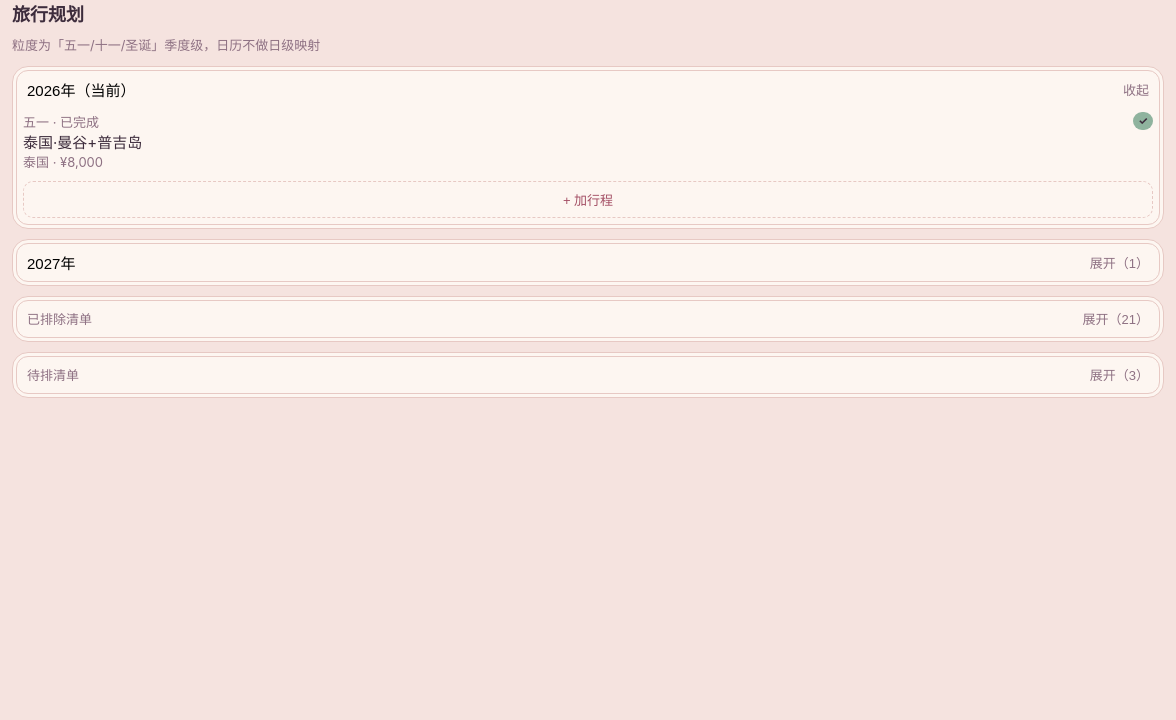
Scenario: TravelPlanView › 未来年份默认折叠，点击后展开
The image size is (1176, 720).
Check: the text "泰国·曼谷+普吉岛" is shown, box [23,132,142,152]
Check: the text "川西·色达" is not shown
Click the button "2027年 展开（1）": (44, 263) [13,240,1163,284]
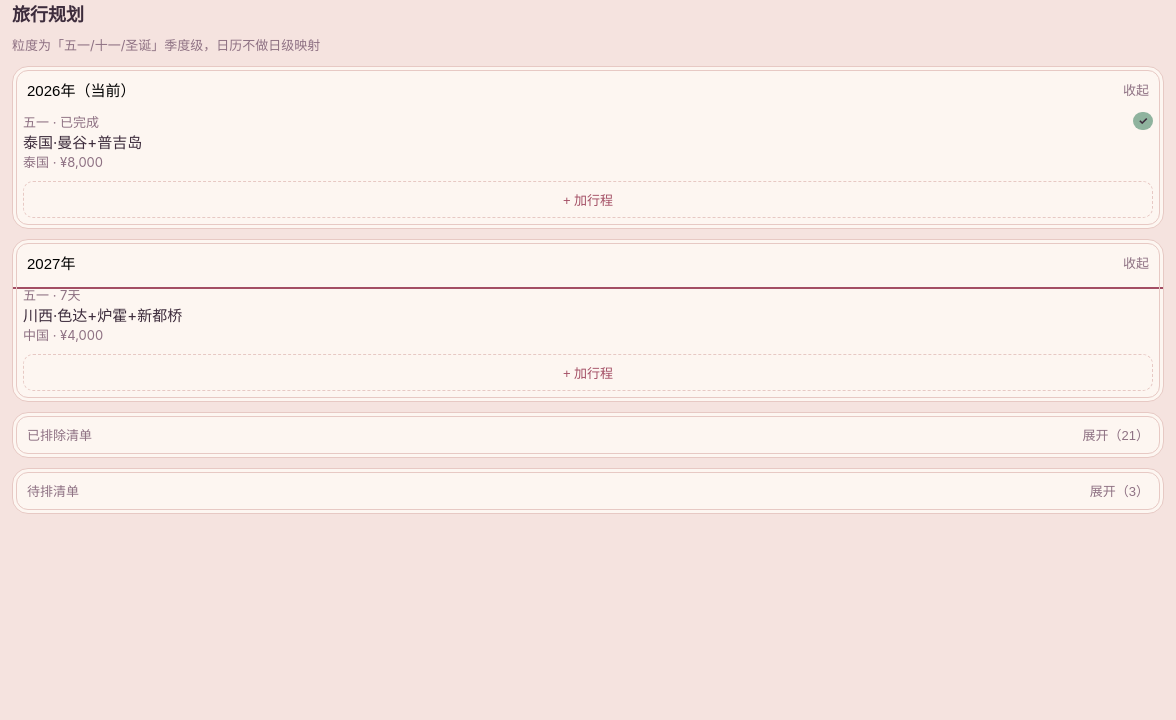
Check: the text "川西·色达+炉霍+新都桥" is shown, box [23,306,182,324]
